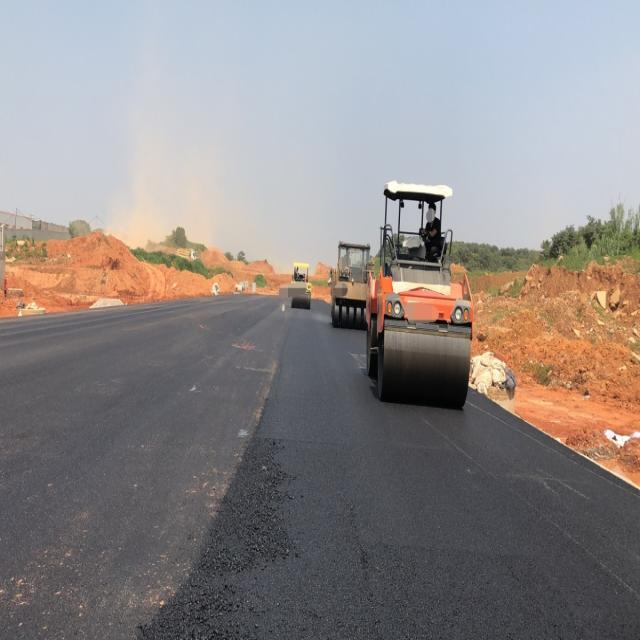truck: (177, 247, 200, 260)
